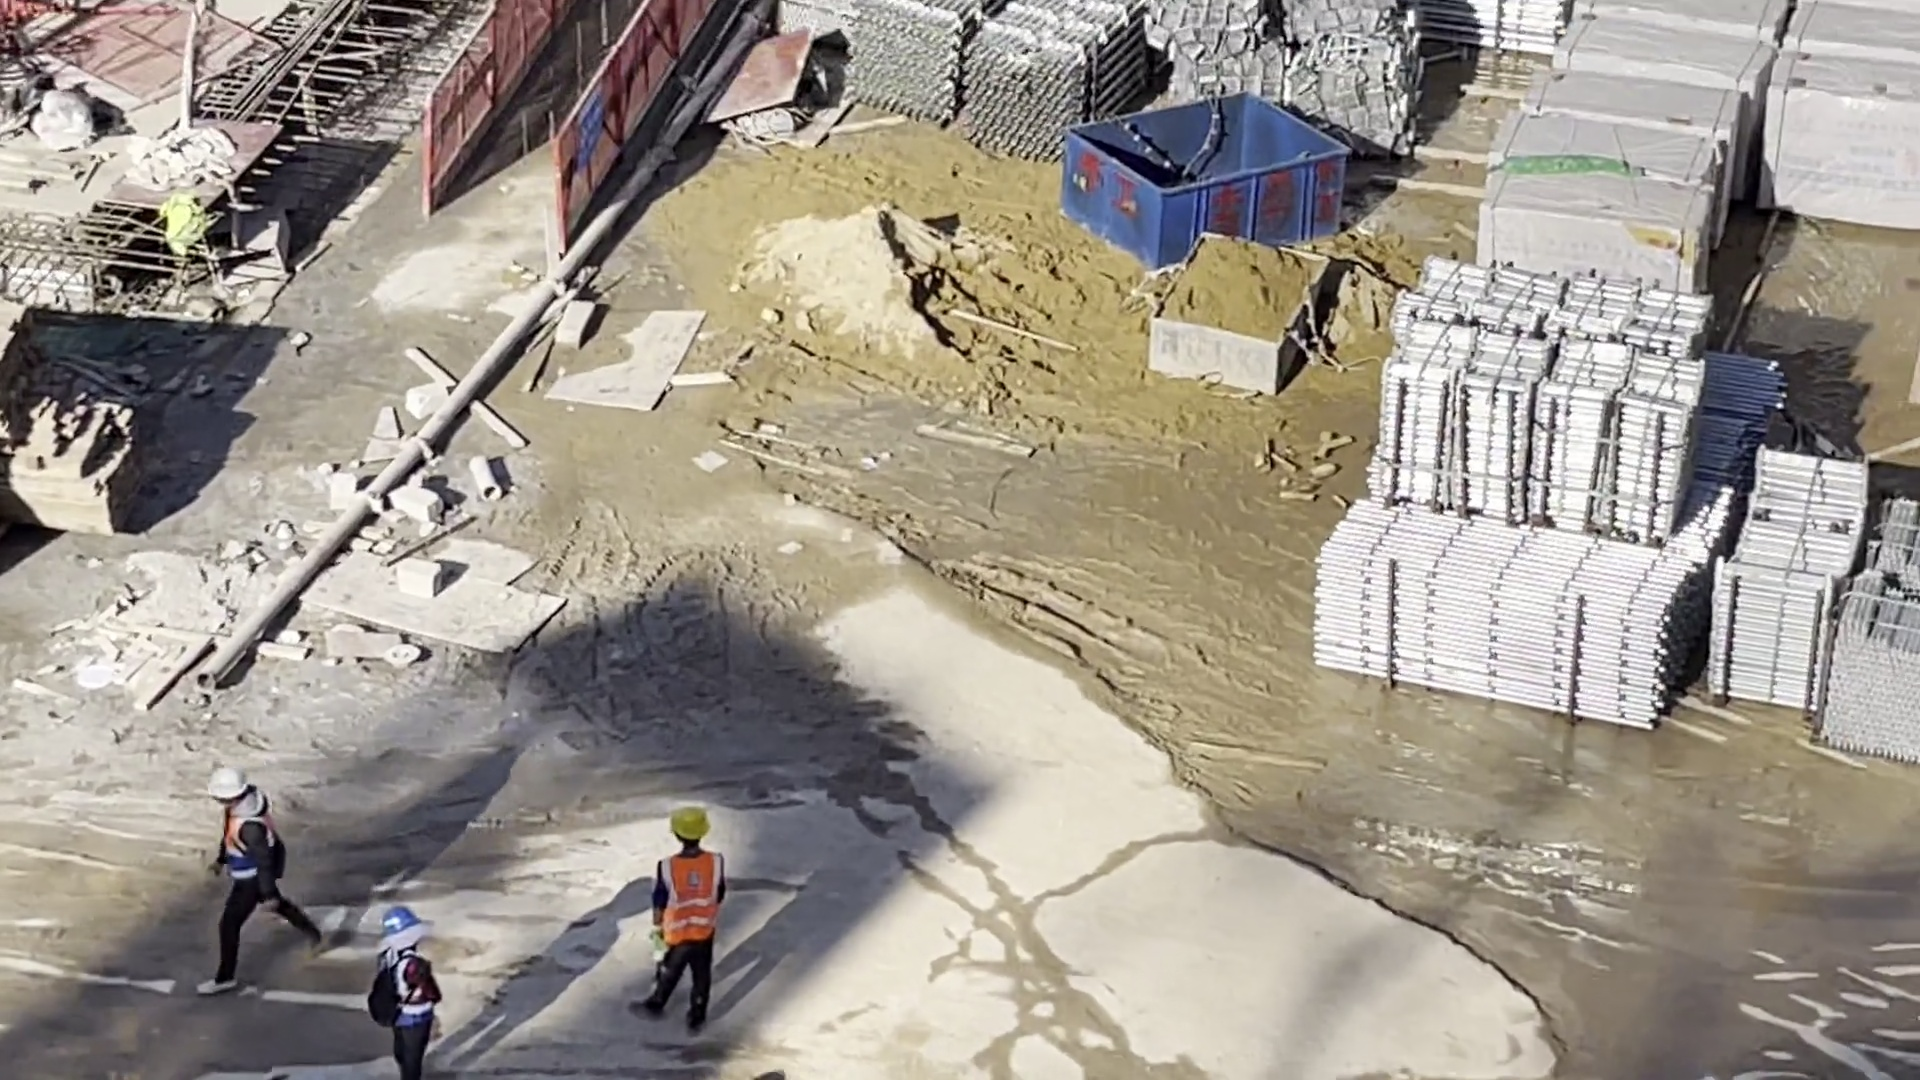fence: (428, 1, 715, 195)
helmet: (204, 769, 246, 806), (671, 807, 713, 838), (382, 908, 424, 934)
hopper: (1062, 92, 1343, 257), (1148, 229, 1335, 400)
person: (204, 774, 320, 980), (650, 810, 721, 1029), (371, 912, 435, 1080)
scaffold: (1381, 268, 1696, 534), (1317, 506, 1702, 722), (854, 7, 1150, 157), (1713, 438, 1858, 710), (1829, 500, 1920, 753)
slogan: (575, 89, 601, 161)
vest: (667, 851, 720, 941), (388, 953, 436, 1022)
wood: (1, 378, 147, 558)
